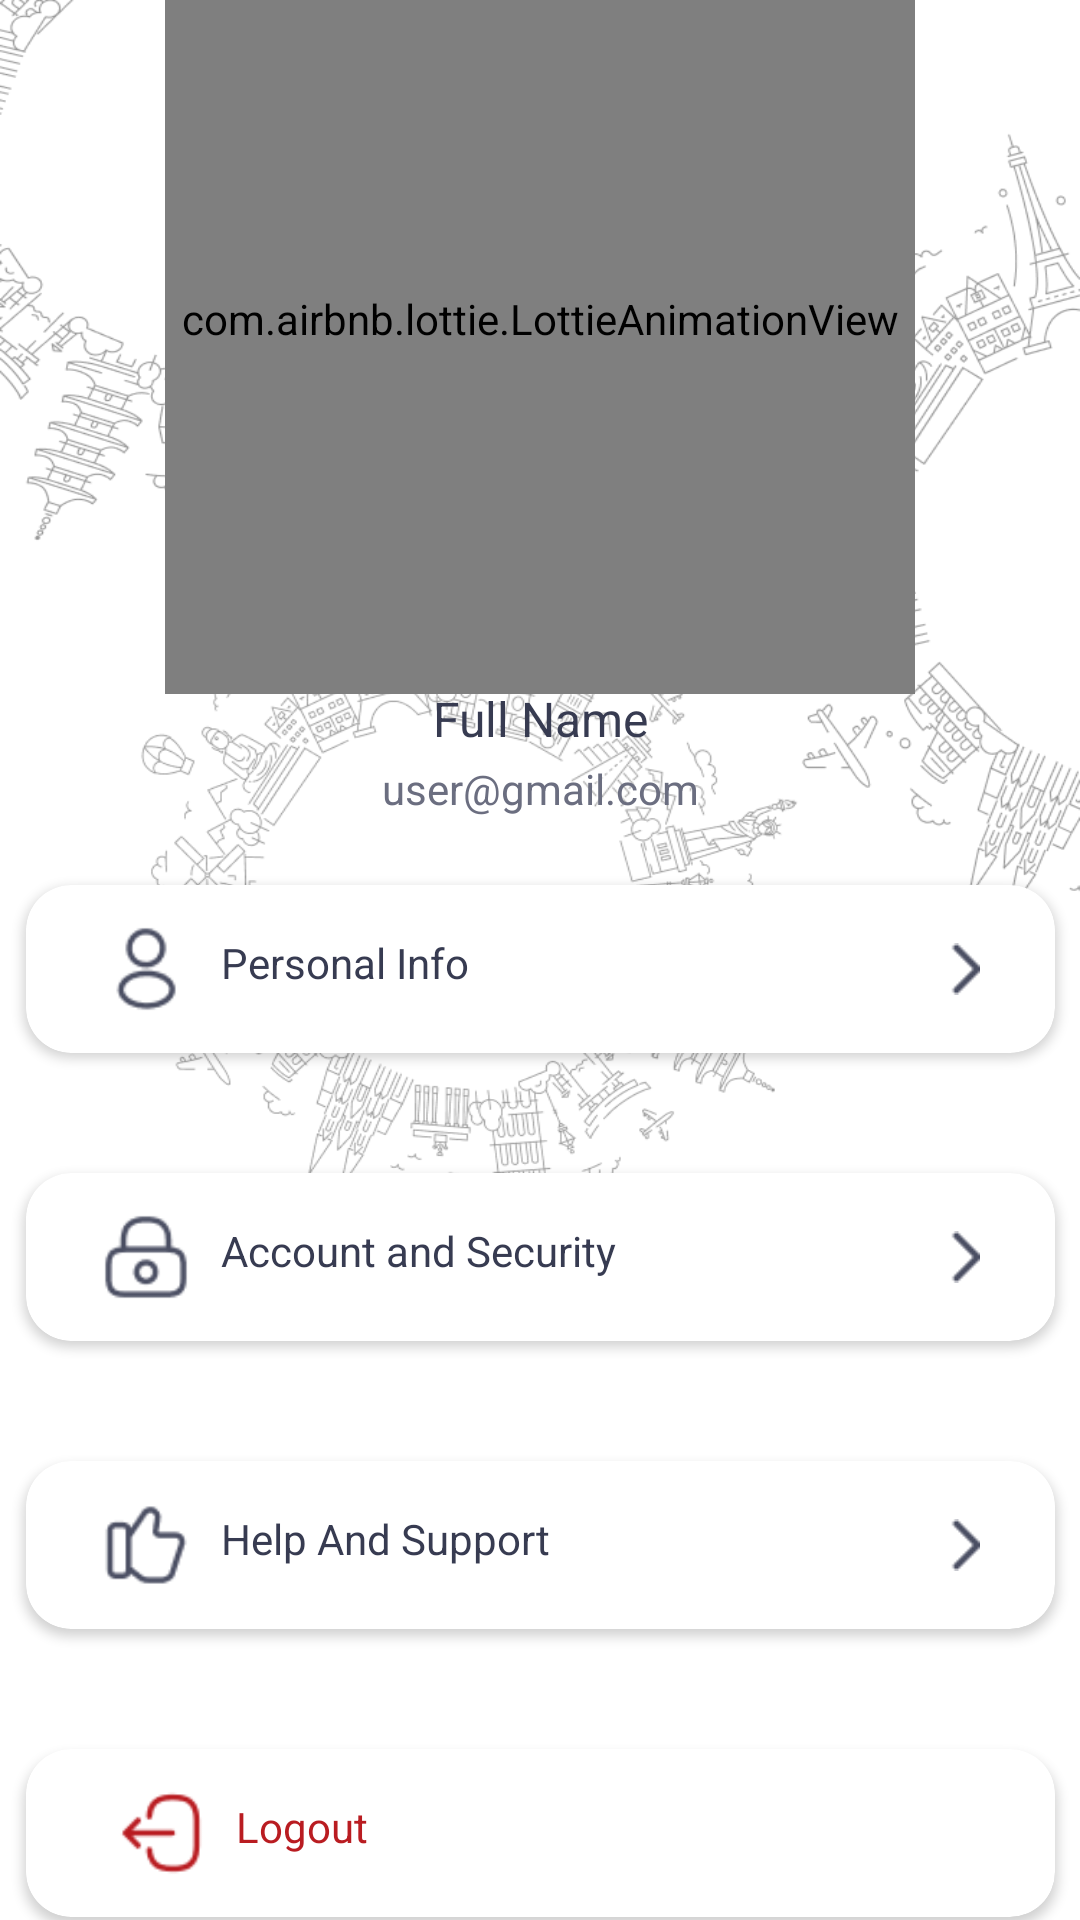

Icons on this 1080px×1920px Android screen, each with the point to tap as [x,y]:
next arrow: [966,969], [966,1257], [966,1545]
settings page security: [146,1257]
settings page user: [146,969]
